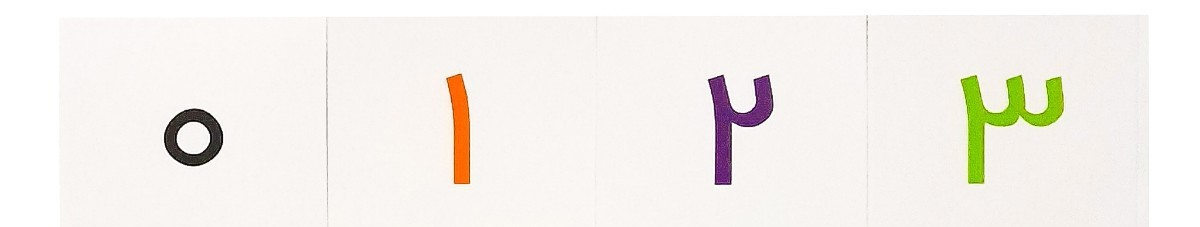character: (923, 37, 1091, 198), (113, 54, 250, 220), (695, 44, 806, 224), (410, 48, 510, 214)
